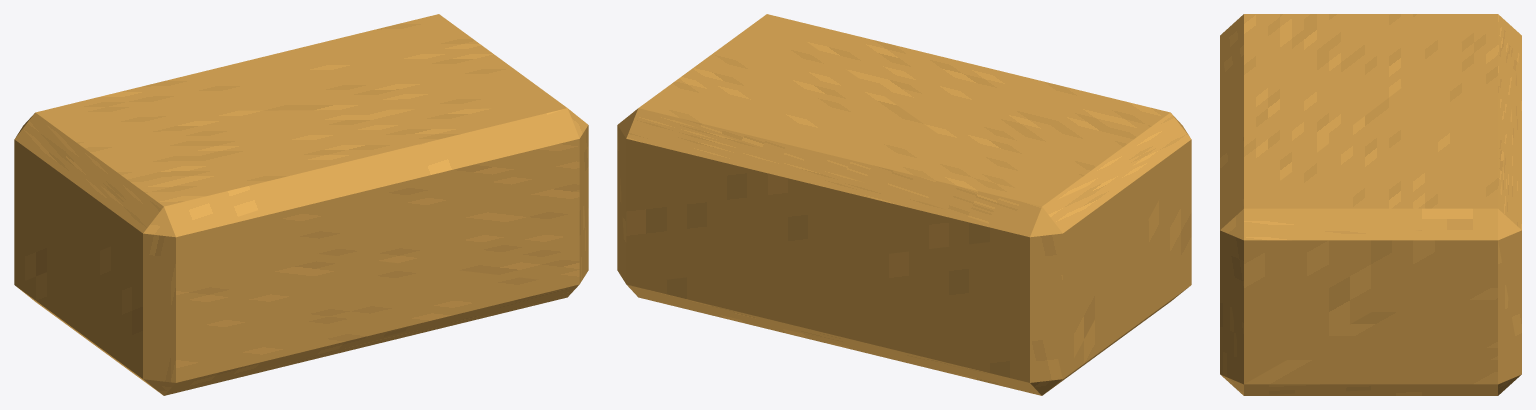
Rendered from cheese.glb.
3 renders of one model, left to right at view 1: azimuth 30°, elevation 25°; view 2: azimuth 150°, elevation 25°; view 3: azimuth 270°, elevation 25°, orthographic.
Visible parts, largest first — view 1: block_yellow pressed cheese block; view 2: block_yellow pressed cheese block; view 3: block_yellow pressed cheese block.
Boxes of the visible parts, x1,y1,x2,y2 form: block_yellow pressed cheese block: [14, 14, 588, 395]; block_yellow pressed cheese block: [617, 14, 1191, 395]; block_yellow pressed cheese block: [1220, 14, 1521, 395].
Size of the model in its own units: 0.064 by 0.026 by 0.038.
1 material, 1 textured.
